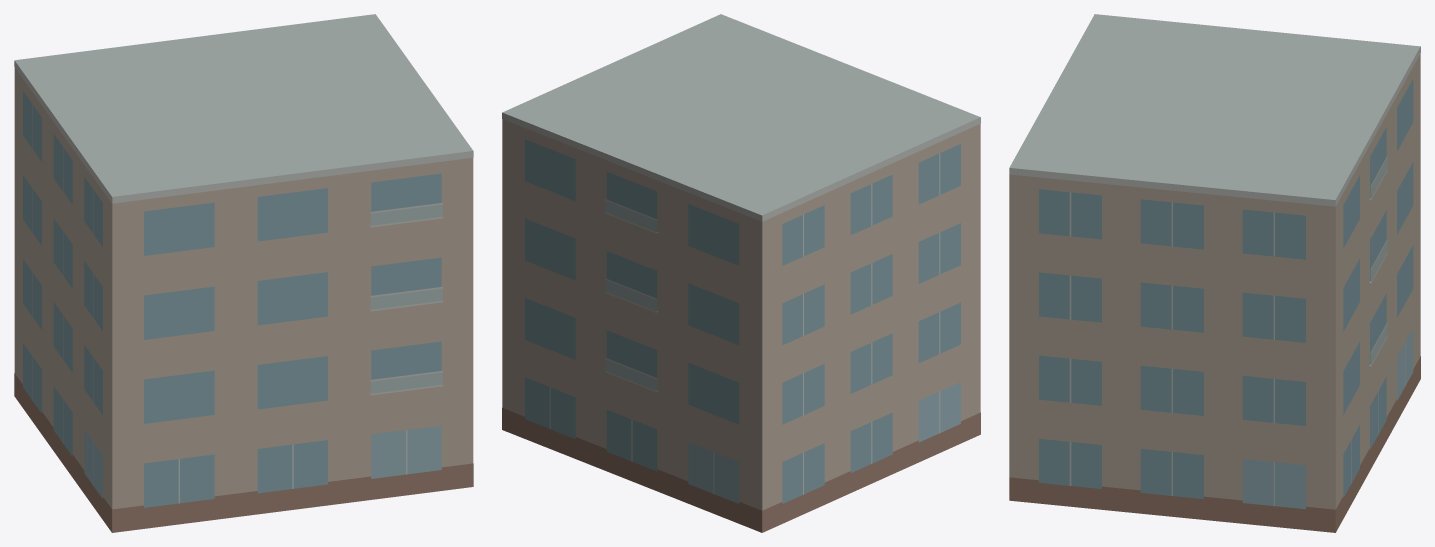
The model's file is residential-9ec784b7-a839-4b0e-9f74-5f7e11888103.glb.
The picture shows the model from 3 angles, left to right: view 1: azimuth 30°, elevation 25°; view 2: azimuth 150°, elevation 25°; view 3: azimuth 270°, elevation 25°; orthographic projection. The views are drawn at different scales.
Parts seen in each view (by area): view 1: residential-9ec784b7-a839-4b0e-9f74-5f7e11888103.tmp; view 2: residential-9ec784b7-a839-4b0e-9f74-5f7e11888103.tmp; view 3: residential-9ec784b7-a839-4b0e-9f74-5f7e11888103.tmp.
Boxes of the visible parts, bbox=[...] form: residential-9ec784b7-a839-4b0e-9f74-5f7e11888103.tmp: bbox=[14, 14, 473, 532]; residential-9ec784b7-a839-4b0e-9f74-5f7e11888103.tmp: bbox=[502, 14, 980, 532]; residential-9ec784b7-a839-4b0e-9f74-5f7e11888103.tmp: bbox=[1009, 14, 1420, 532].
Bounding box in the file's own units: 14.64 × 12.2 × 13.68.
